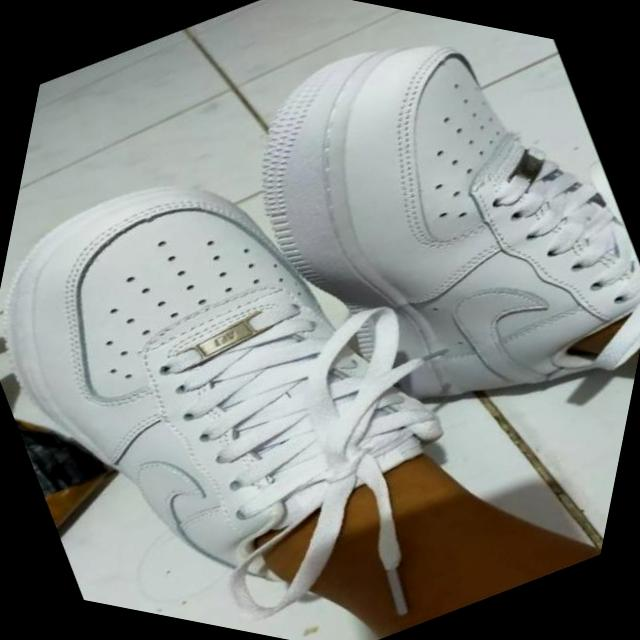nike_fake_airforce: (0, 57, 547, 640), (159, 0, 640, 510)
